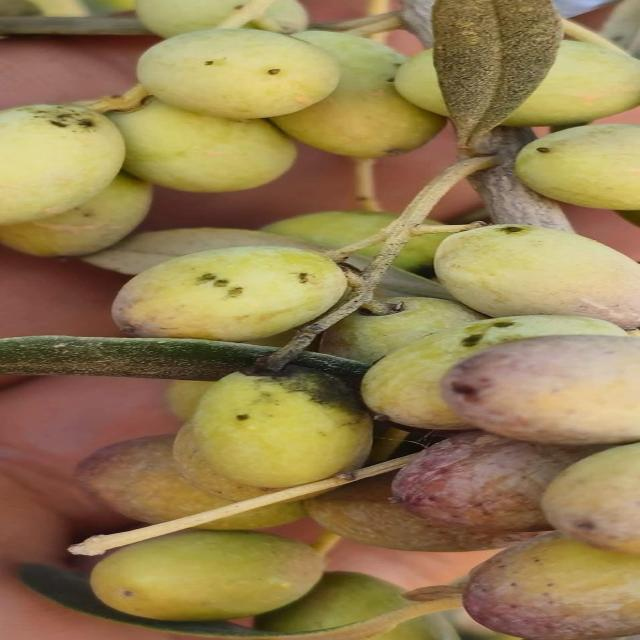Olive Fruit Fly: (361, 316, 626, 428), (114, 247, 346, 340), (440, 336, 639, 444), (185, 374, 371, 488), (434, 226, 639, 328), (138, 28, 340, 120), (0, 106, 124, 226)
